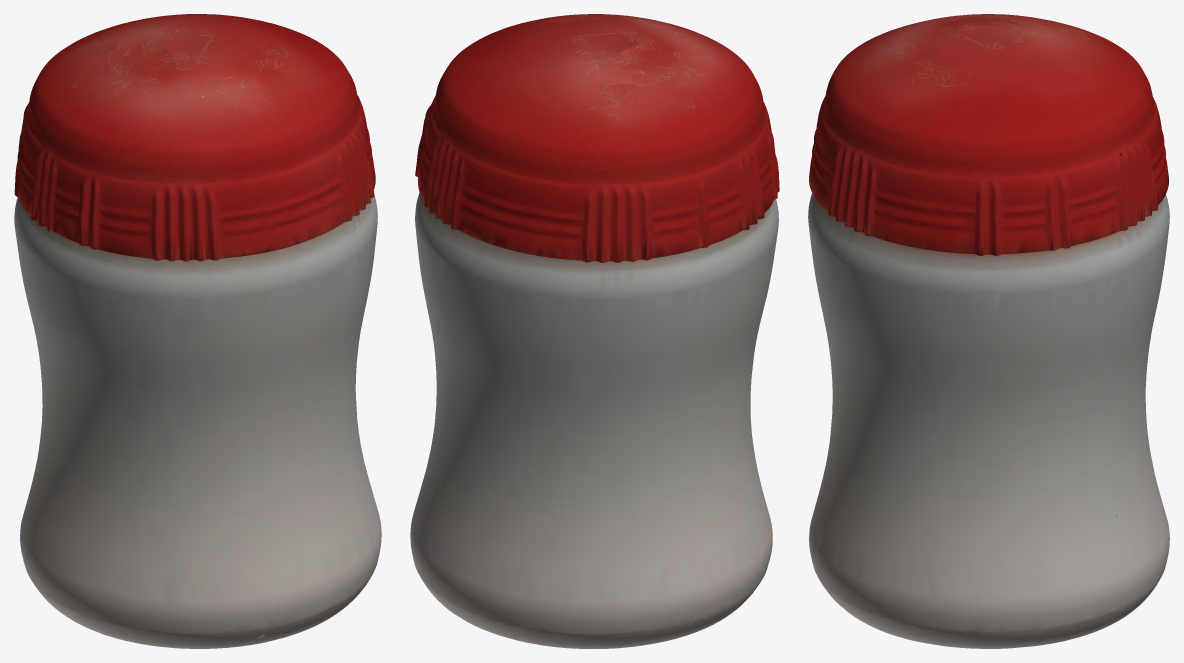
File: husk-jar-optimized.glb
3 views of the same model, side by side, from view 1: azimuth 30°, elevation 25°; view 2: azimuth 150°, elevation 25°; view 3: azimuth 270°, elevation 25° (orthographic).
Visible parts, largest first — view 1: node_0; view 2: node_0; view 3: node_0.
Boxes of the visible parts, <box> form: node_0: <box>14,14,381,648</box>; node_0: <box>410,14,779,648</box>; node_0: <box>808,14,1169,648</box>.
Bounding box in the file's own units: 0.6598 × 1.08 × 0.645.
1 material, 1 textured.
